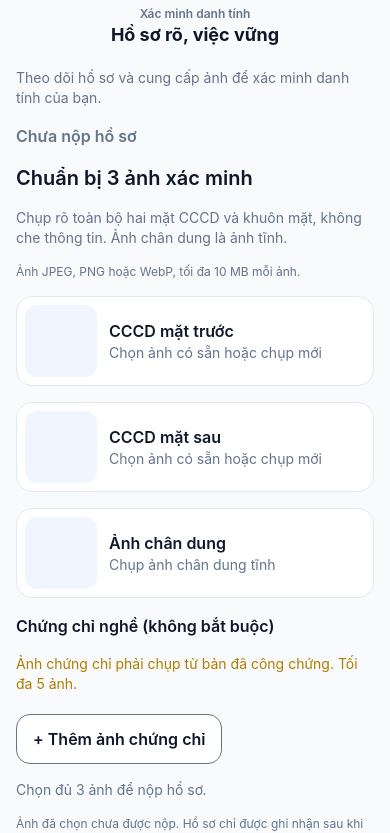
Test case: cancelling the mocked picker cannot count as selecting an image
Click the button "CCCD mặt trước Chọn ảnh có sẵn hoặc chụp mới" at [195, 341], box [16,296,374,386]
(page scrolled)
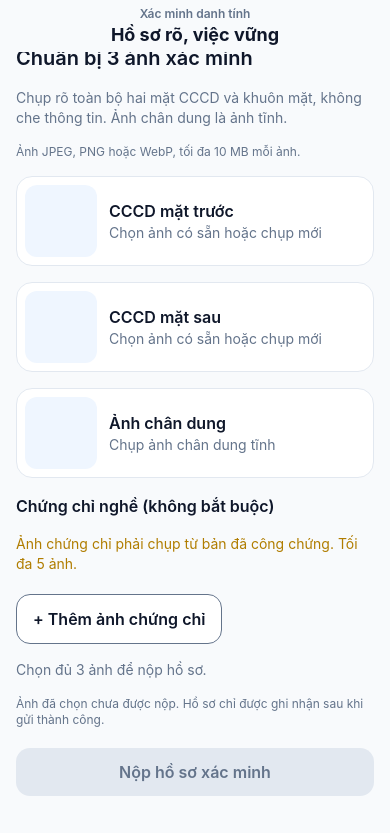
Check: the button "Nộp hồ sơ xác minh" is disabled, box [16,748,374,796]
